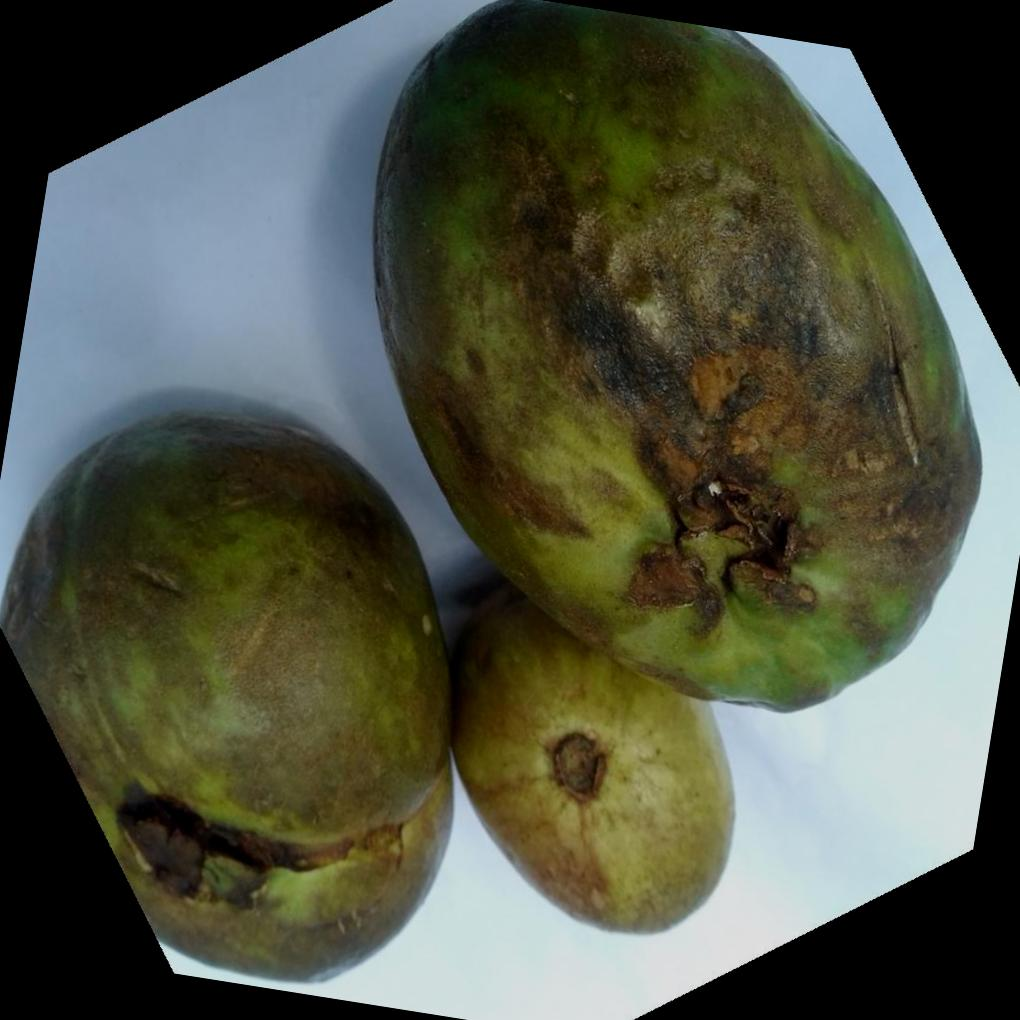FreshOrange: (0, 0, 985, 985)
